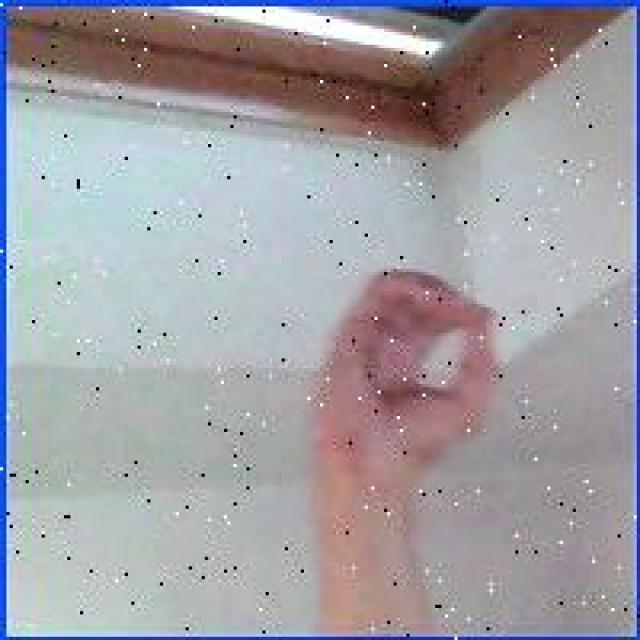O: (309, 264, 510, 501)
